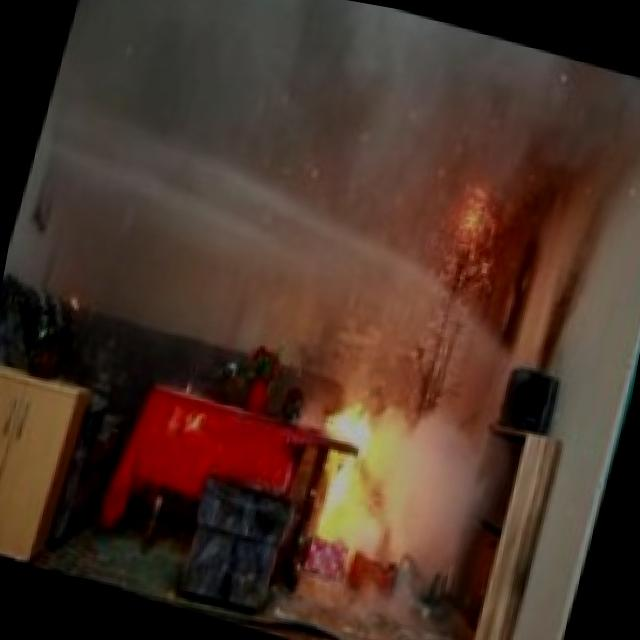fire: (286, 378, 396, 533)
smoke: (353, 389, 525, 620)
